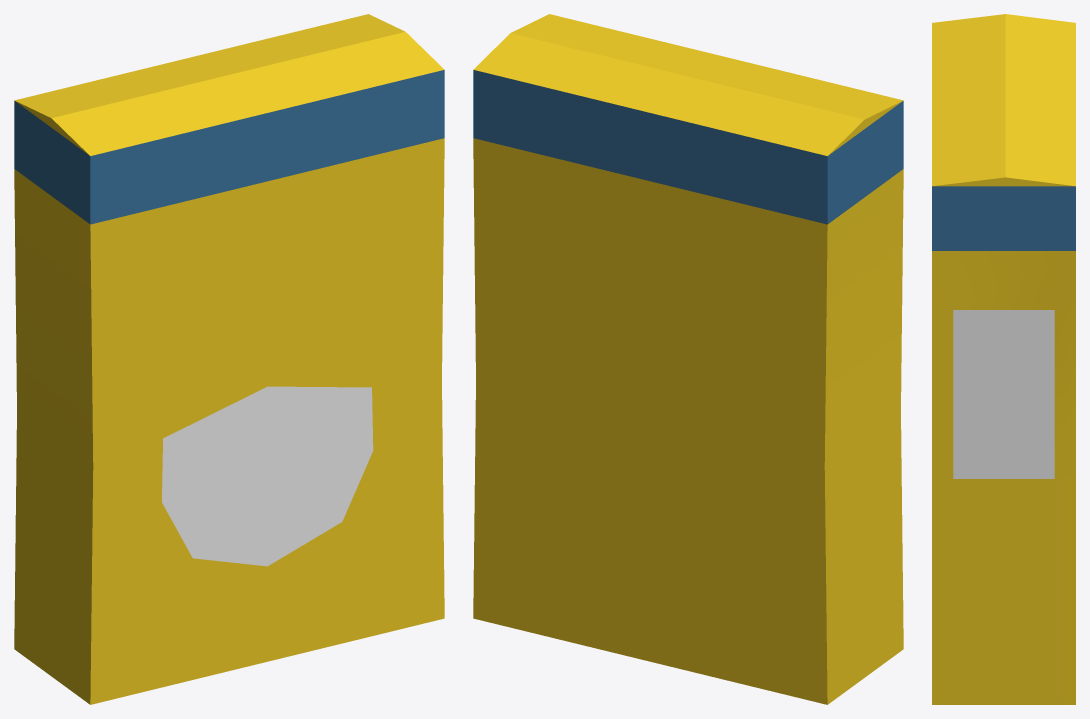
Rendered from food_cereal-box.fbx.
The picture shows the model from 3 angles, left to right: view 1: azimuth 30°, elevation 25°; view 2: azimuth 150°, elevation 25°; view 3: azimuth 270°, elevation 25°; orthographic projection. The views are drawn at different scales.
Parts seen in each view (by area): view 1: food_cereal_box; view 2: food_cereal_box; view 3: food_cereal_box.
Part boxes in pixels (bbox=[...]): food_cereal_box: bbox=[14, 14, 444, 704]; food_cereal_box: bbox=[473, 14, 903, 704]; food_cereal_box: bbox=[932, 14, 1075, 704].
Bounding box in the file's own units: 133 × 200 × 49.46.
